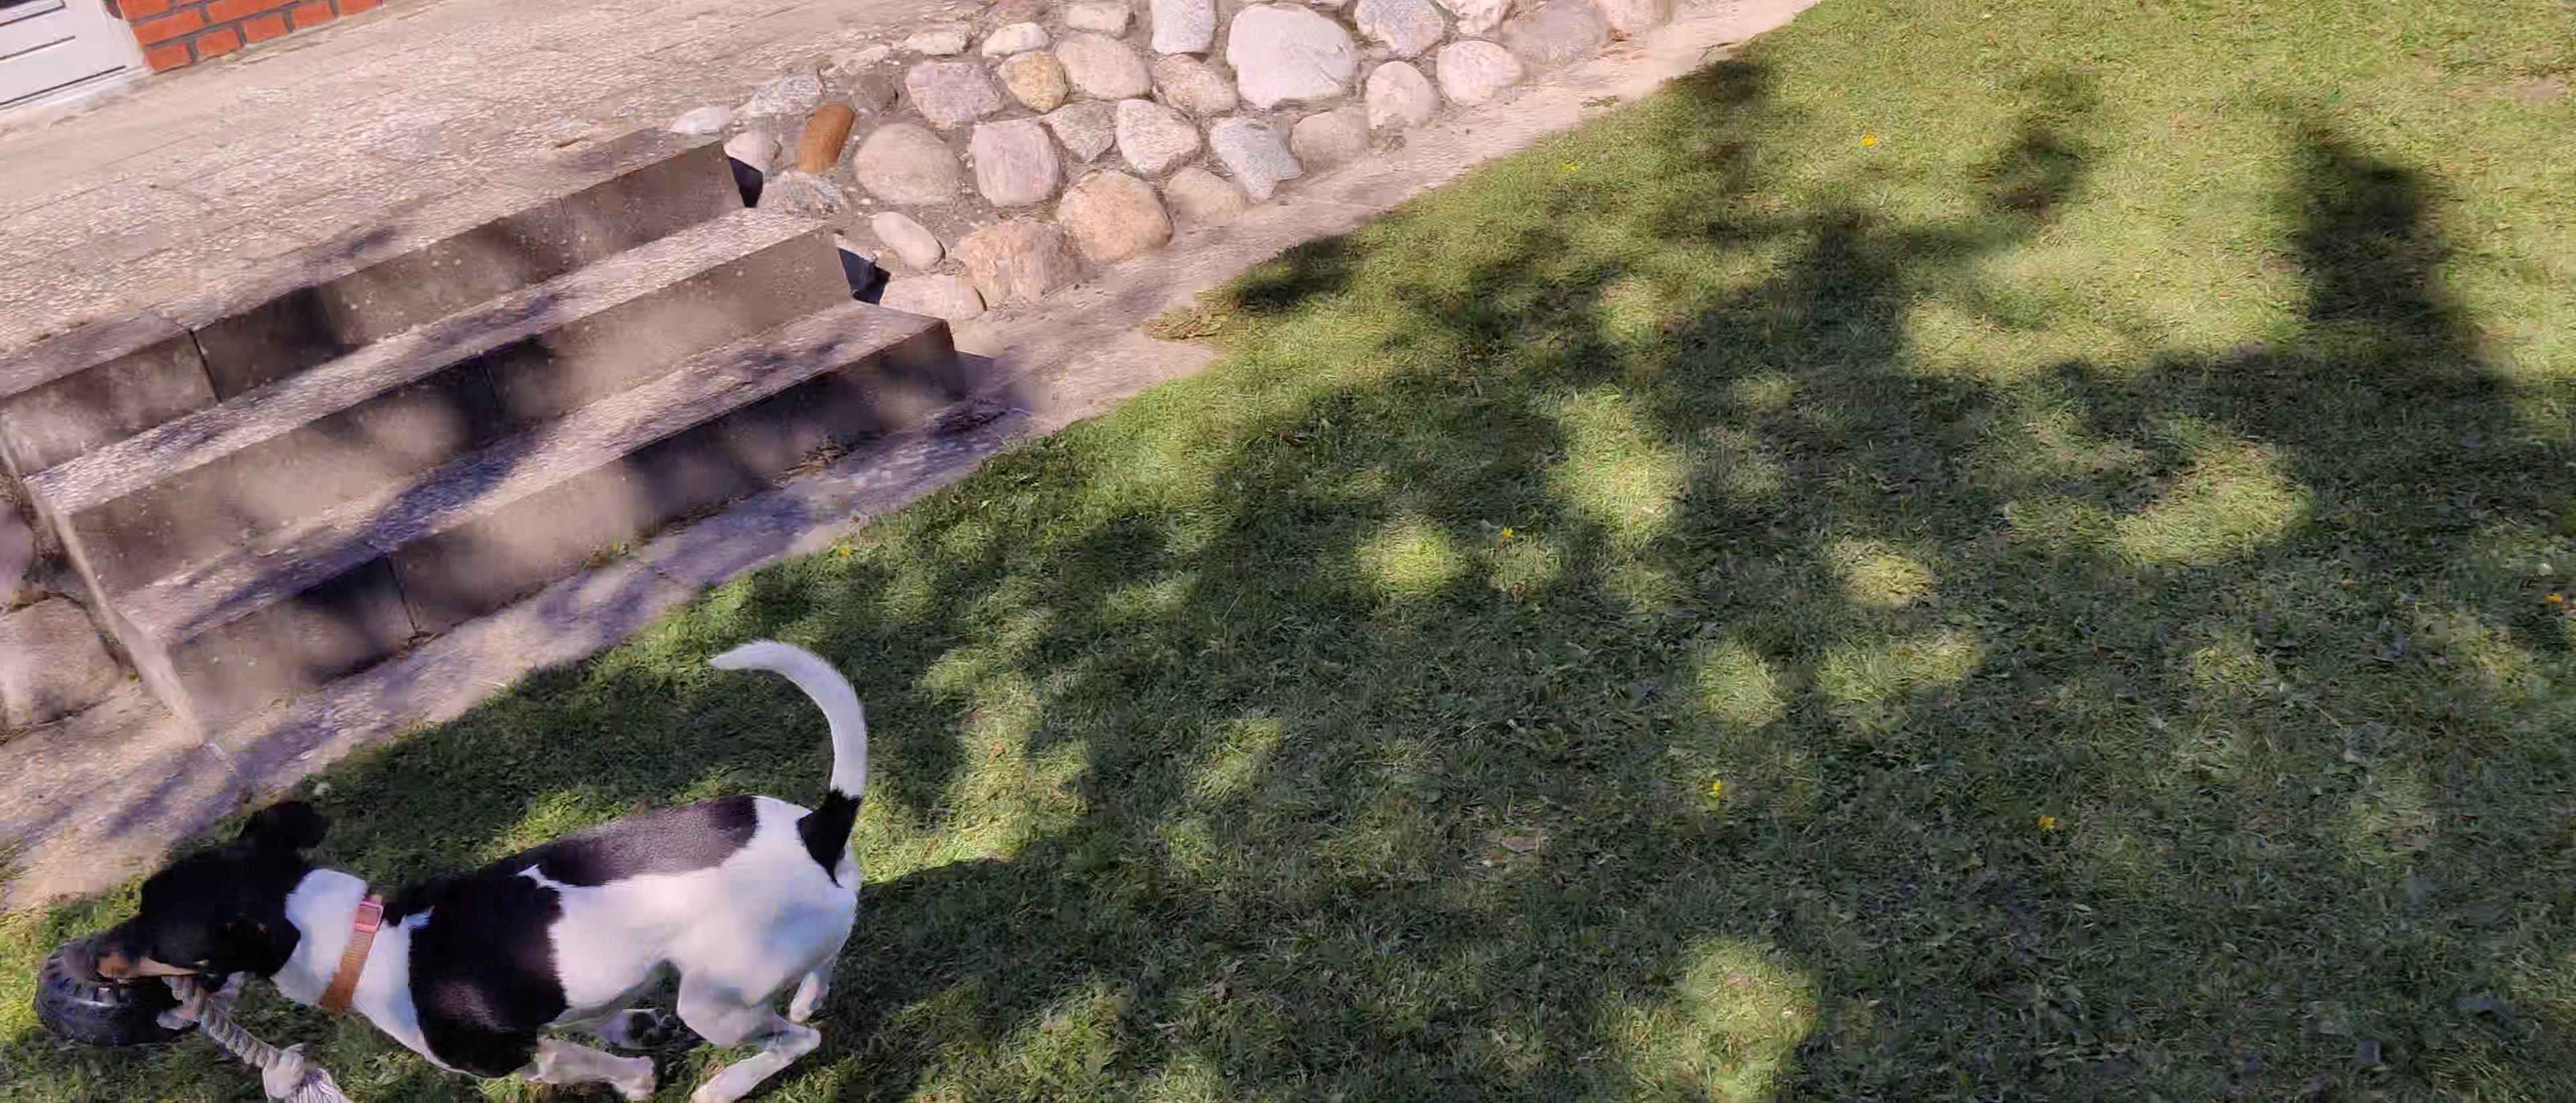Dog: (79, 621, 890, 1103)
